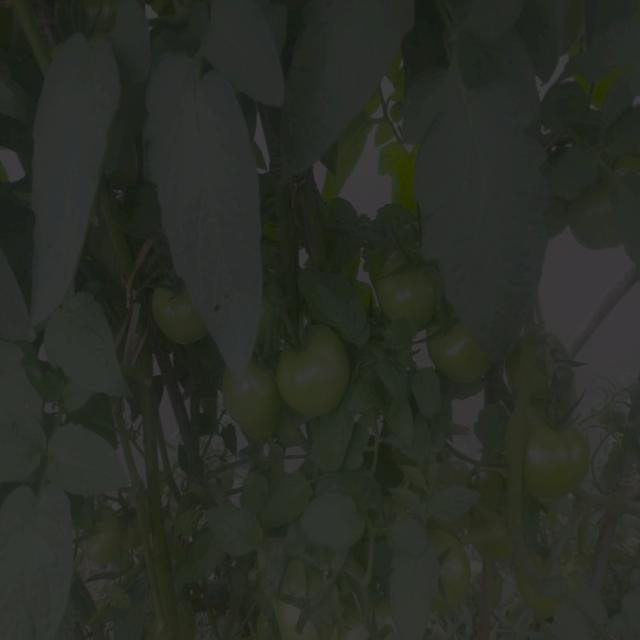tomato: (278, 330, 346, 416), (532, 413, 596, 503), (372, 259, 438, 328), (146, 273, 203, 348), (569, 179, 620, 252), (218, 370, 273, 432), (441, 316, 486, 386), (73, 505, 122, 565), (440, 541, 475, 609), (274, 580, 312, 640)
